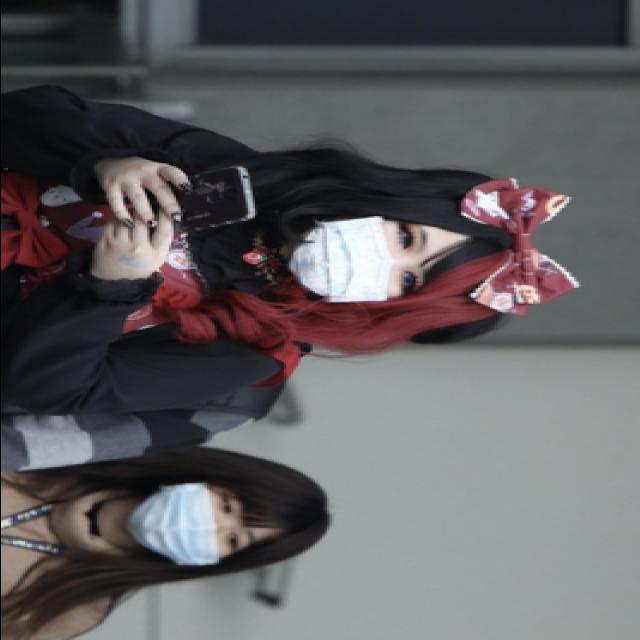mask: (288, 212, 436, 306), (122, 477, 262, 565)
